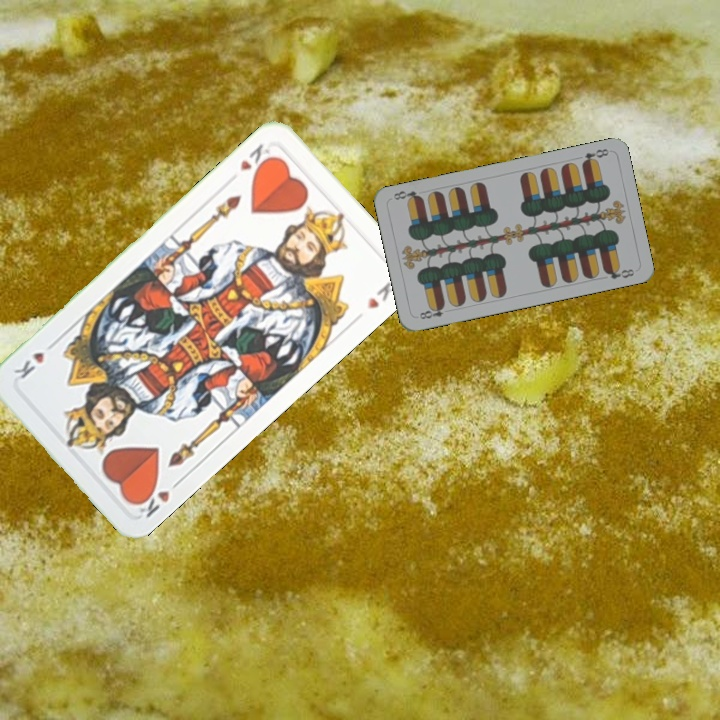E8: (578, 144, 611, 168), (415, 301, 447, 322)
HK: (129, 475, 185, 521), (235, 139, 276, 179)
